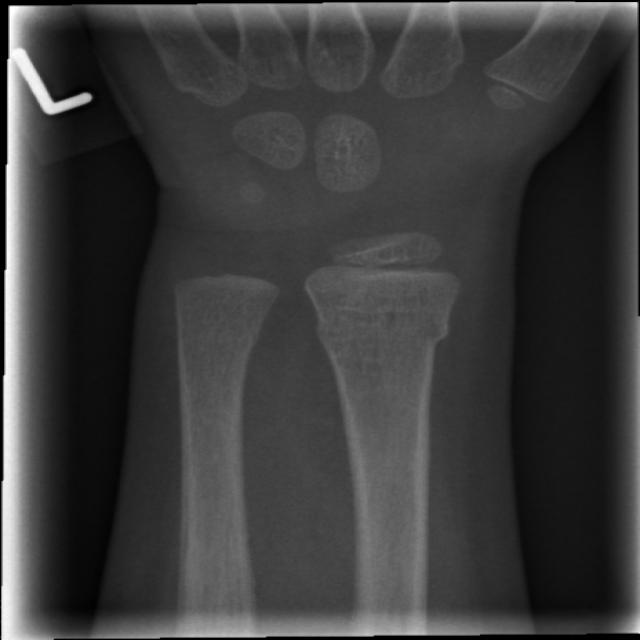radius fracture: (298, 281, 473, 415)
